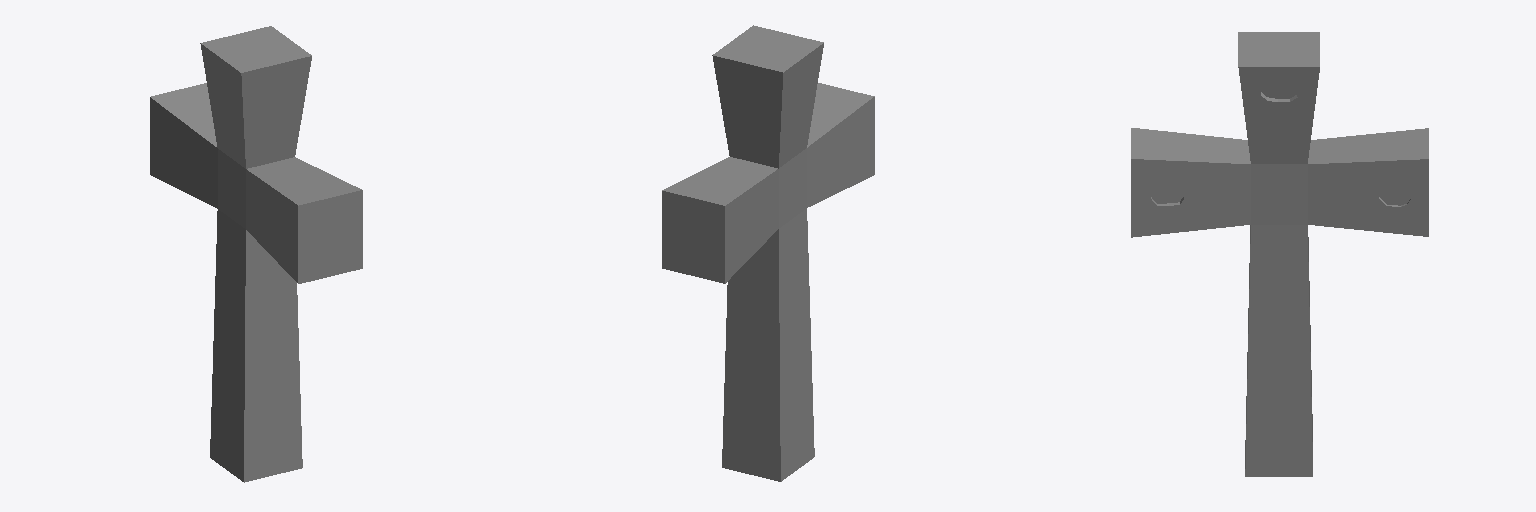
3 views of the same model, side by side, from view 1: azimuth 30°, elevation 25°; view 2: azimuth 150°, elevation 25°; view 3: azimuth 270°, elevation 25° (orthographic).
Visible parts, largest first — view 1: 十字架; view 2: 十字架; view 3: 十字架.
Part boxes in pixels (bbox=[...]): 十字架: bbox=[150, 26, 362, 482]; 十字架: bbox=[662, 25, 874, 481]; 十字架: bbox=[1131, 32, 1428, 476].
Size of the model in its own units: 1.1 by 6.1 by 3.99.
1 materials, 1 textured.